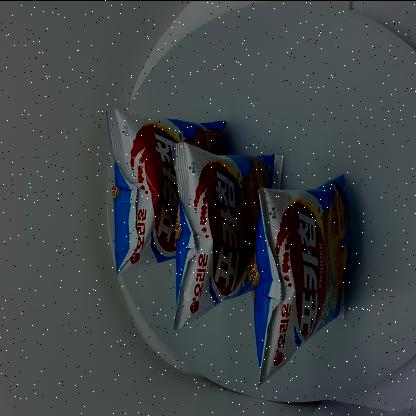Others: (103, 85, 355, 394)
